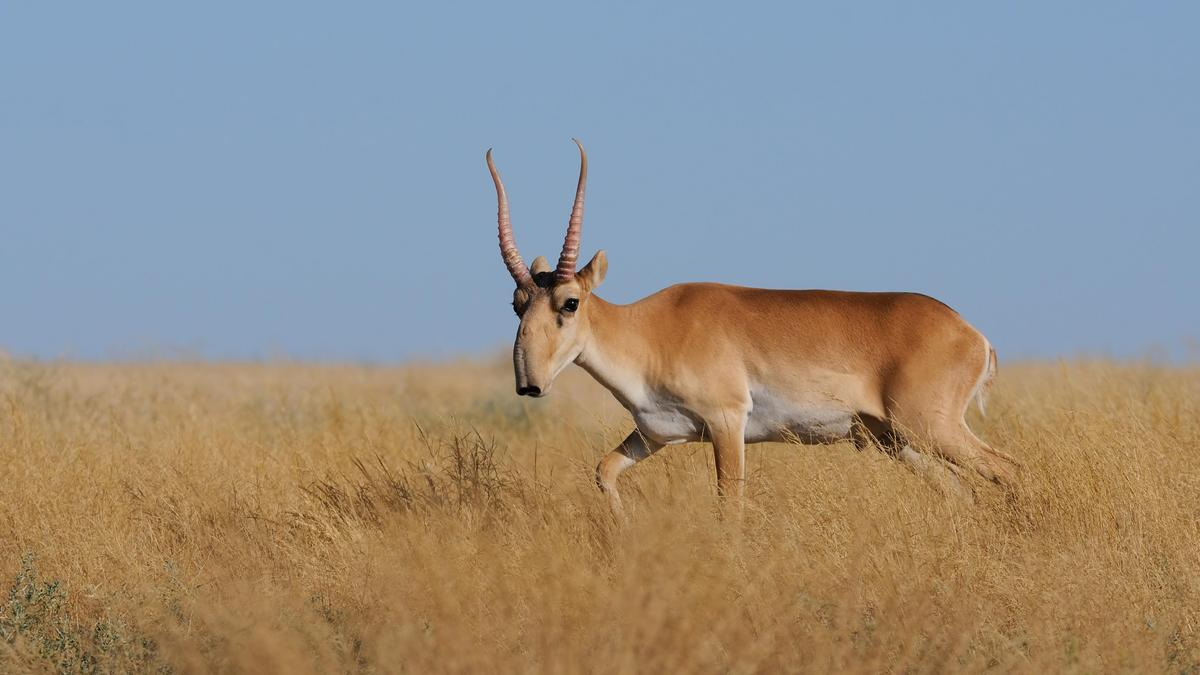saiga: (483, 135, 1031, 538)
